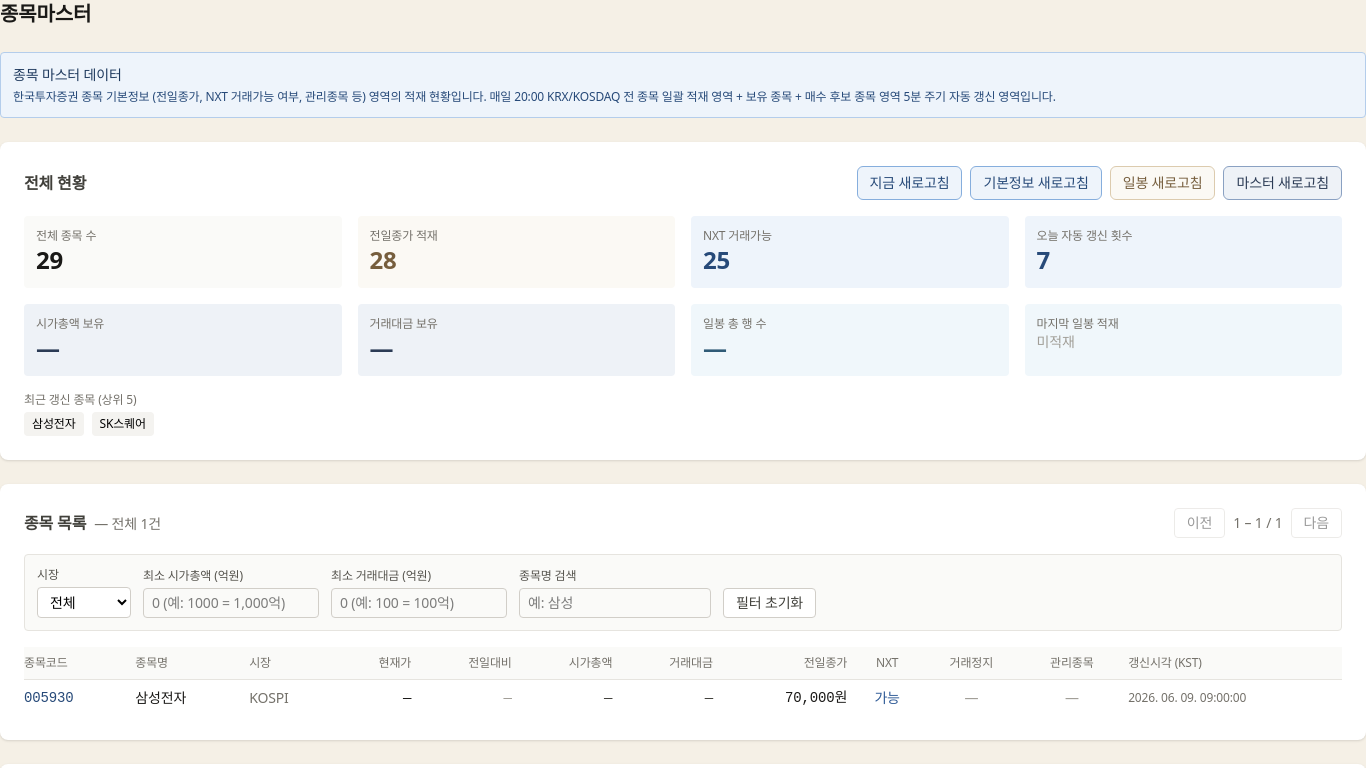
Test: 사이클 169 — 변경이력 탭 신 스키마 (seq/raw, 최신본/직전본) › G-169-1: seq0=최신본 / seq1=직전본 라벨이 각각 표시된다
Step 1. Click the text "005930" → (49, 698), box [24,680,135,716]
(page scrolled)
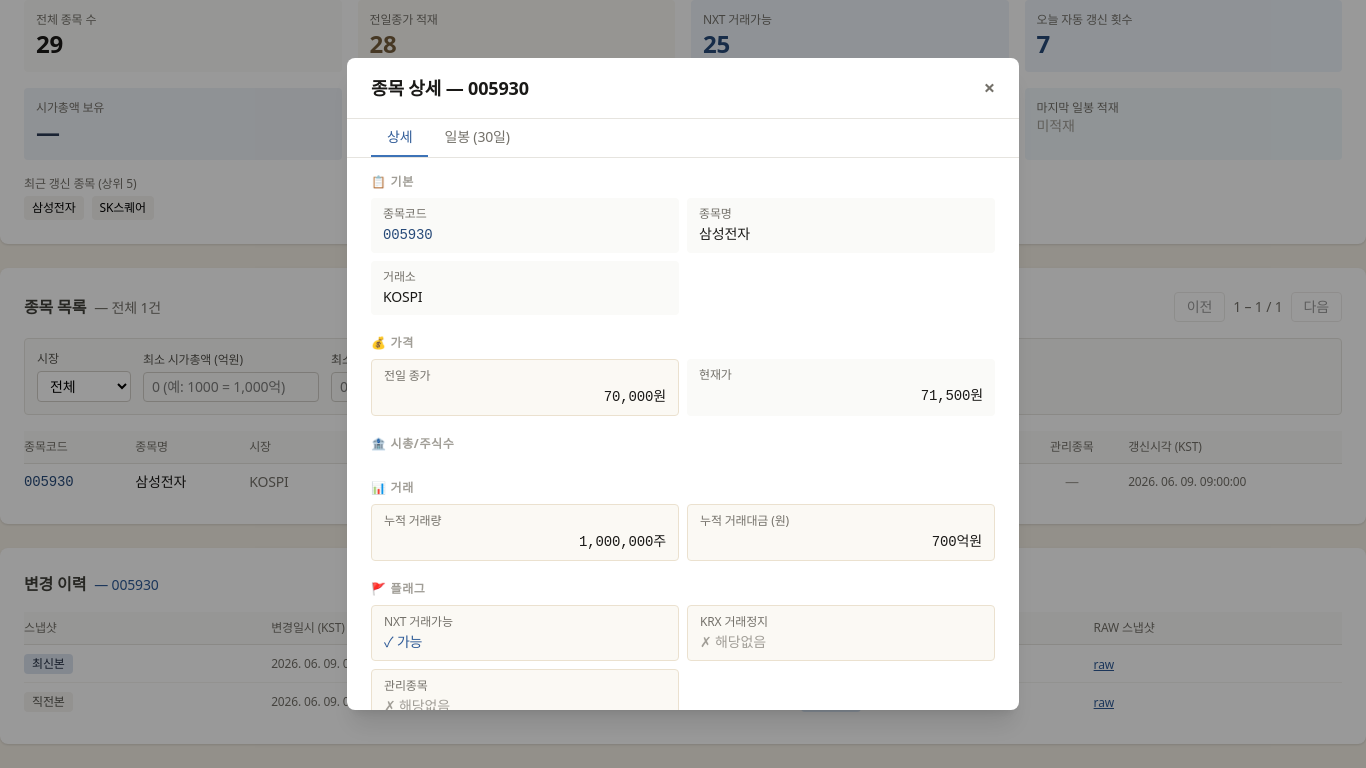
Check: the element with test id "stock-master-history-card" is shown, box [0,548,1365,744]
Check: the text "최신본" is shown, box [24,654,73,674]
Check: the text "직전본" is shown, box [24,692,73,712]
